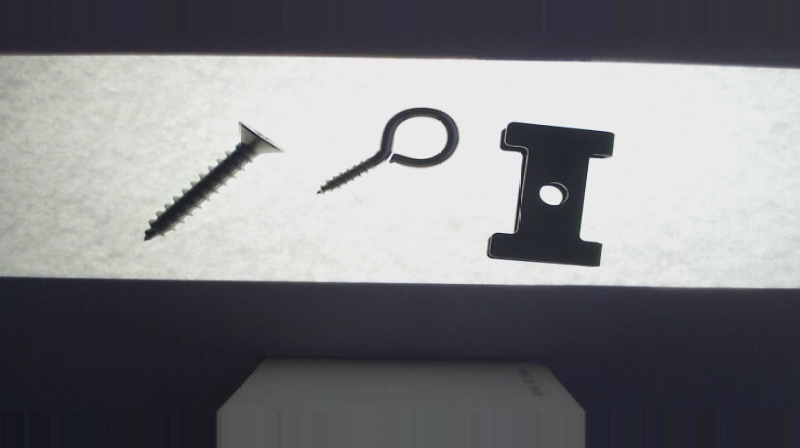O001: (313, 106, 459, 197)
O002: (484, 122, 619, 268)
S001: (141, 121, 282, 241)
